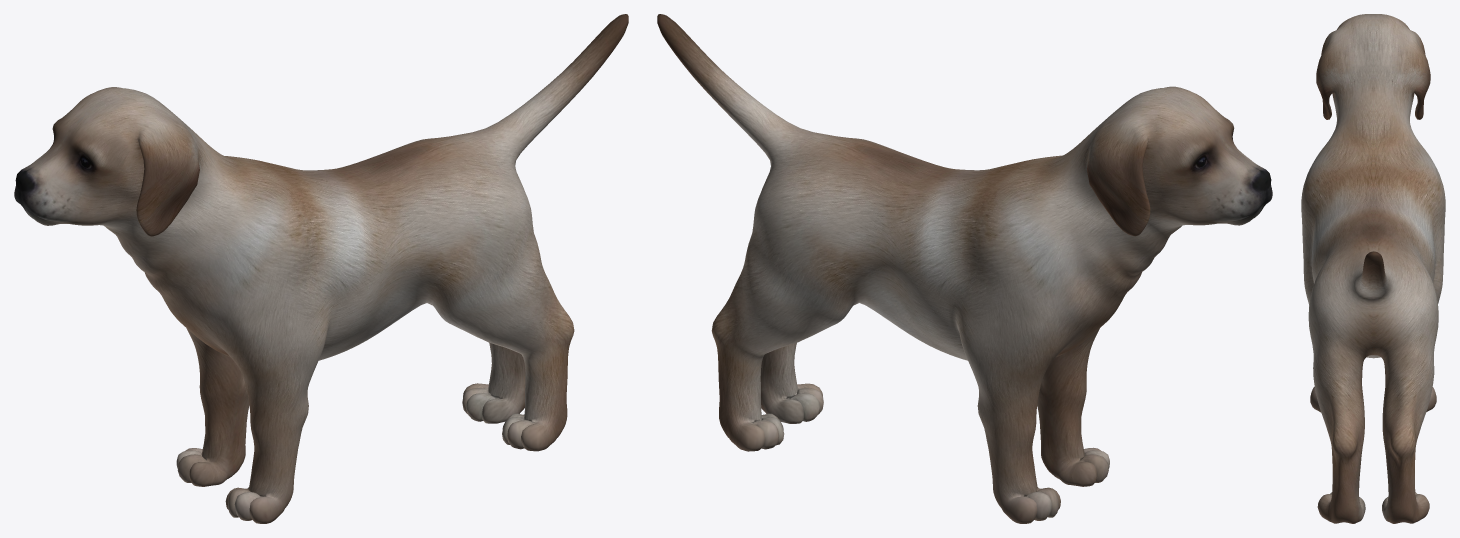
The model's file is puppy.fbx.
3 views of the same model, side by side, from view 1: azimuth 30°, elevation 25°; view 2: azimuth 150°, elevation 25°; view 3: azimuth 270°, elevation 25° (orthographic). The views are drawn at different scales.
Visible parts, largest first — view 1: AM83_037_1; view 2: AM83_037_1; view 3: AM83_037_1.
Part boxes in pixels (x1,y1,x2,y2): AM83_037_1: [14, 14, 628, 523]; AM83_037_1: [657, 14, 1272, 523]; AM83_037_1: [1301, 14, 1445, 523].
Bounding box in the file's own units: 36.28 × 24.43 × 9.28.
1 material, 1 textured.
